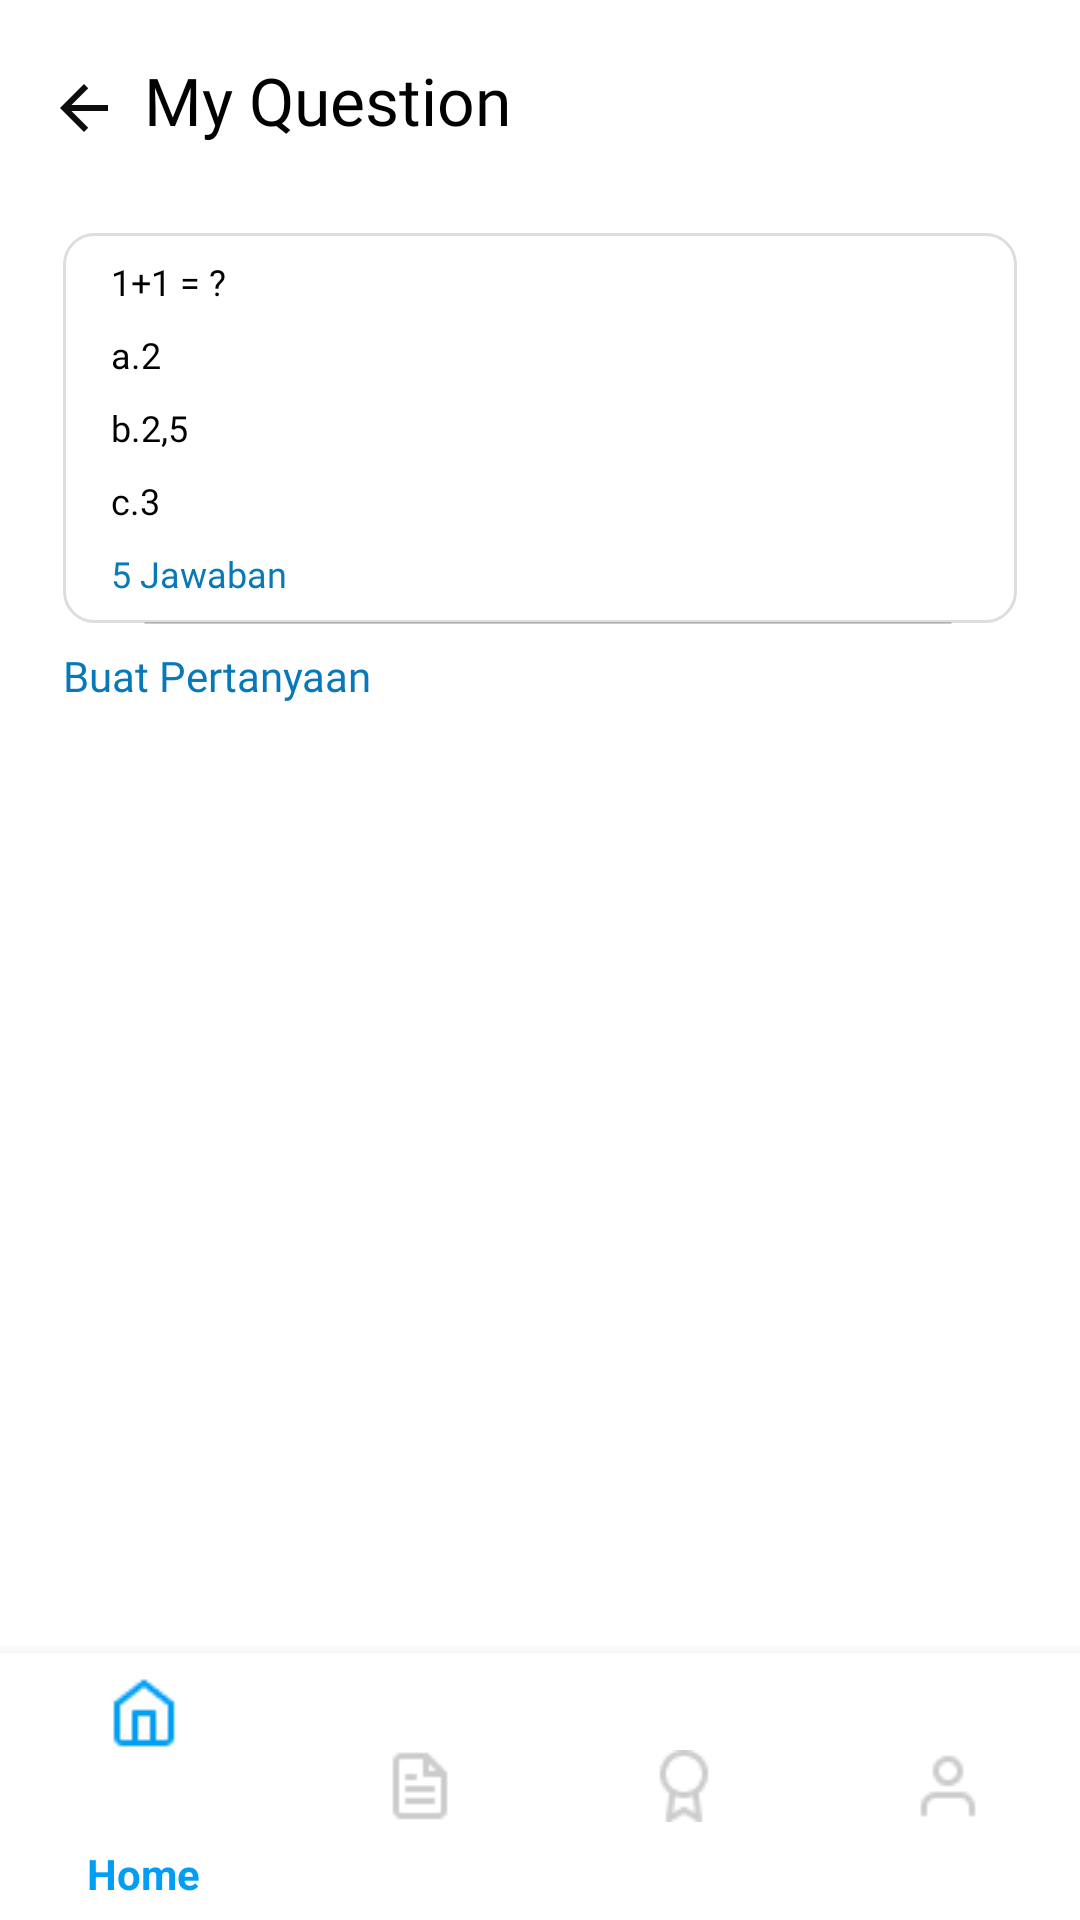

Named icons in this screenshot (1080x1920) and their bounding boxes, bbox(x1, y1, x2, y2):
arrow back: bbox(60, 84, 108, 132)
